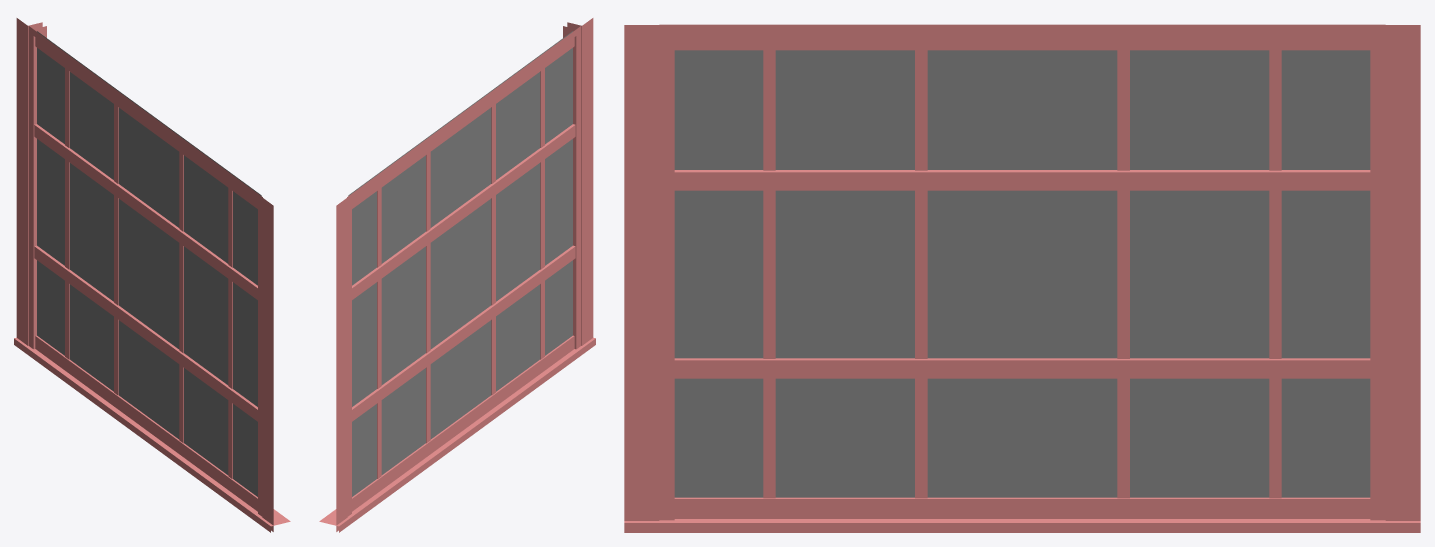
File: SM_ENV_KNVLLG03_YaguraFenceA_02.gltf
The picture shows the model from 3 angles, left to right: view 1: azimuth 30°, elevation 25°; view 2: azimuth 150°, elevation 25°; view 3: azimuth 270°, elevation 25°; orthographic projection. The views are drawn at different scales.
Visible parts, largest first — view 1: SM_ENV_KNVLLG03_YaguraFenceA_02; view 2: SM_ENV_KNVLLG03_YaguraFenceA_02; view 3: SM_ENV_KNVLLG03_YaguraFenceA_02.
Part boxes in pixels (x1=…): SM_ENV_KNVLLG03_YaguraFenceA_02: x1=14, y1=18, x2=290, y2=532; SM_ENV_KNVLLG03_YaguraFenceA_02: x1=319, y1=18, x2=595, y2=532; SM_ENV_KNVLLG03_YaguraFenceA_02: x1=624, y1=24, x2=1420, y2=532.
Size of the model in its own units: 0.4676 by 7.31 by 10.42.
